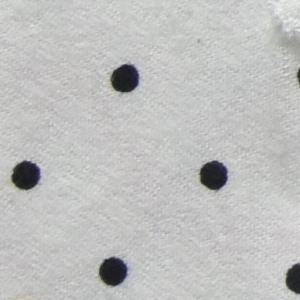Damage: (263, 1, 300, 112)
